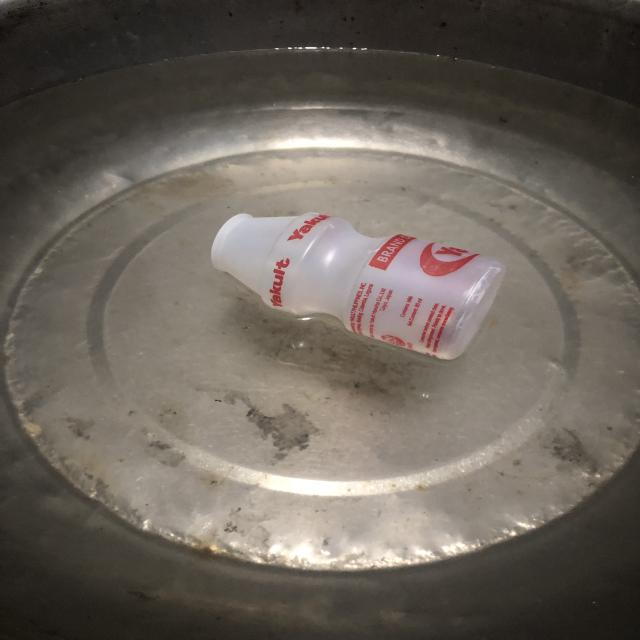Plastic Bottle: (211, 213, 505, 359)
